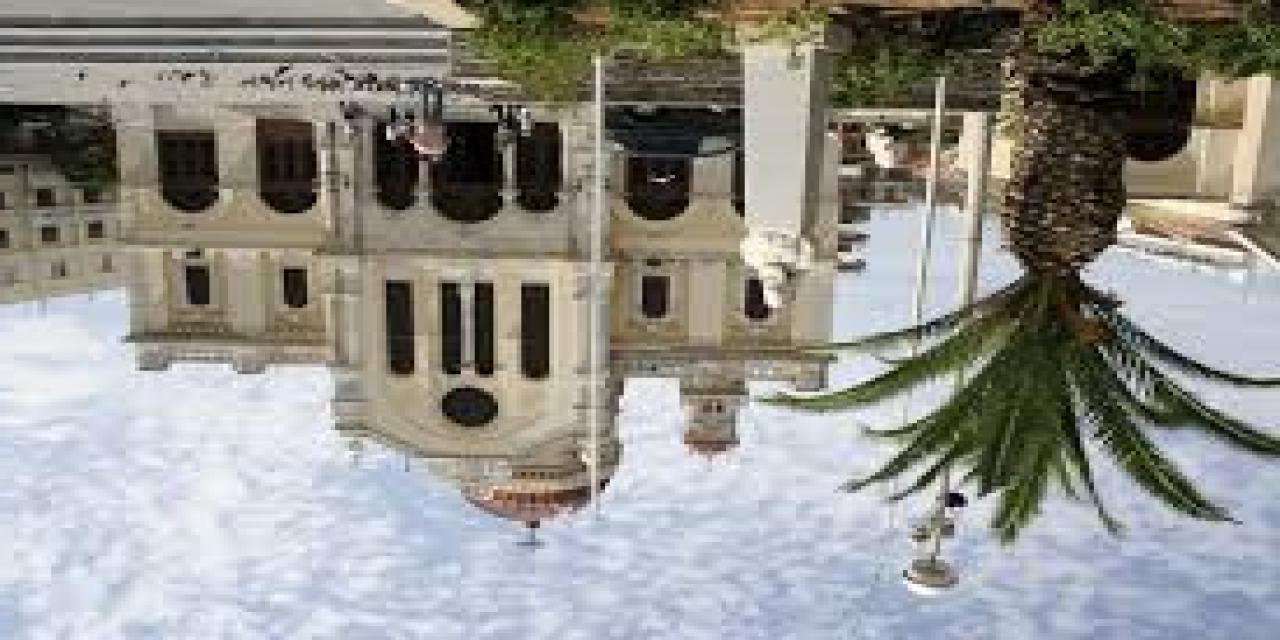Agios Minas: (104, 100, 848, 548)
